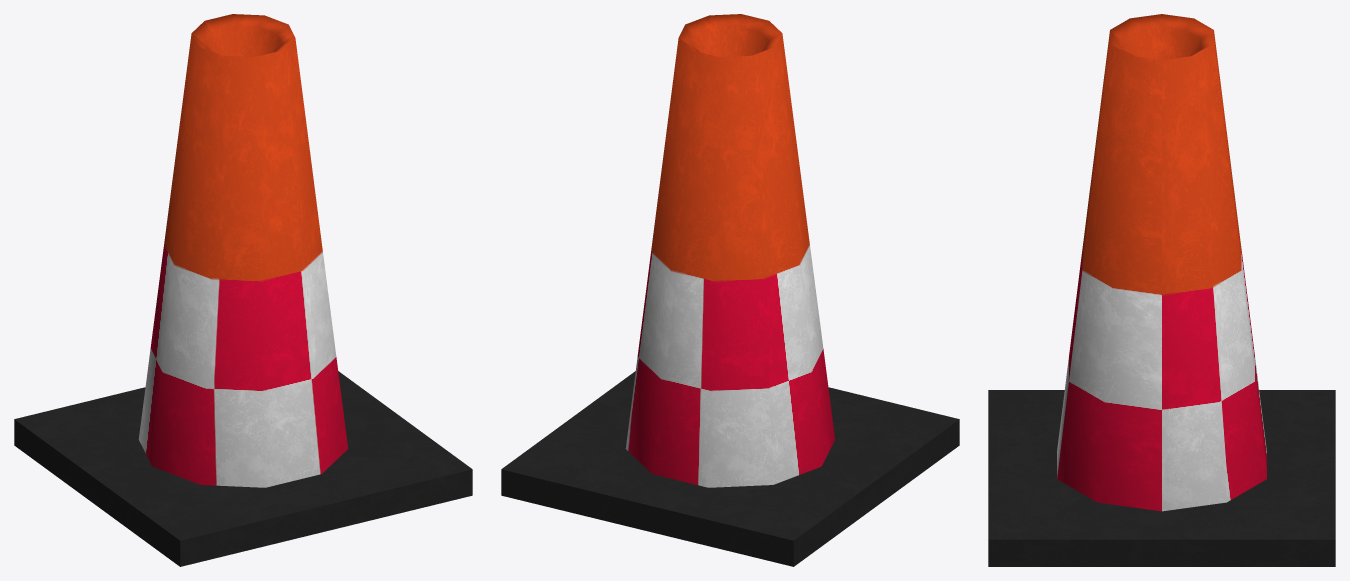
File: aws_TrafficCone_01_visual.DAE
The picture shows the model from 3 angles, left to right: view 1: azimuth 30°, elevation 25°; view 2: azimuth 150°, elevation 25°; view 3: azimuth 270°, elevation 25°; orthographic projection. The views are drawn at different scales.
Visible parts, largest first — view 1: aws_TrafficCone_01_visual; view 2: aws_TrafficCone_01_visual; view 3: aws_TrafficCone_01_visual.
Part boxes in pixels (x1=…): aws_TrafficCone_01_visual: x1=14, y1=14, x2=472, y2=566; aws_TrafficCone_01_visual: x1=501, y1=14, x2=959, y2=566; aws_TrafficCone_01_visual: x1=988, y1=14, x2=1335, y2=566.
Bounding box in the file's own units: 48.65 × 47.83 × 69.13.
1 material, 1 textured.
